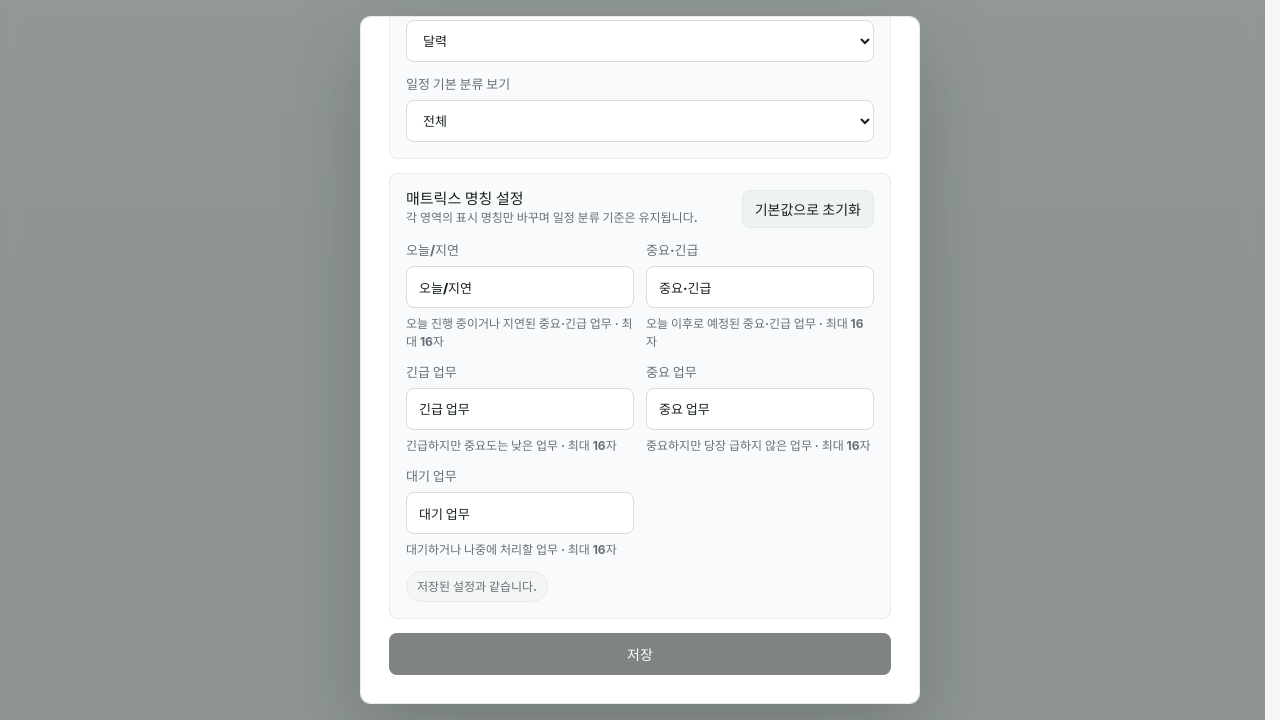
Test: SettingsModal › blocks empty matrix labels before saving
The width and height of the screenshot is (1280, 720).
(page scrolled)
Step 1. Clear the field labelled "중요 업무 중요하지만 당장 급하지 않은 업무 · 최대 16자" → (760, 409), box [646,388,874,430]
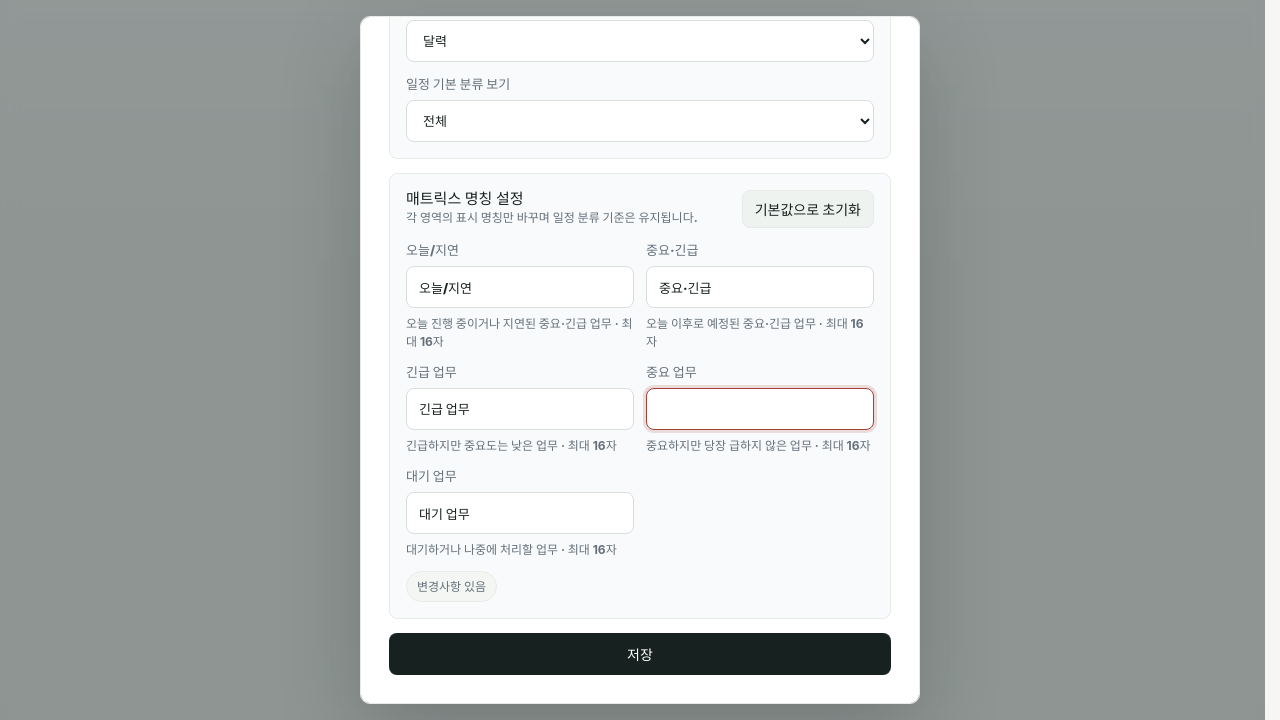
Step 2. Click the button "저장" → click(640, 654), box [389,633,891,675]
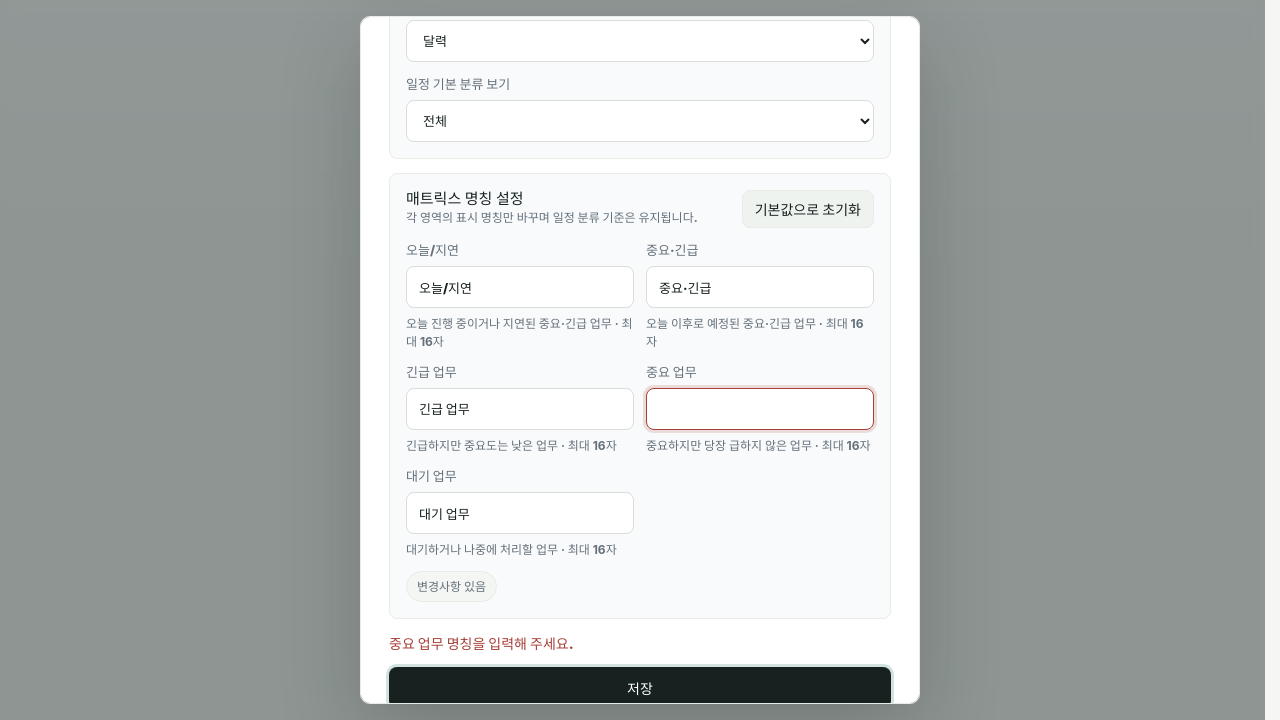
Result: the message "중요 업무 명칭을 입력해 주세요." is shown at [389,635,574,652]
